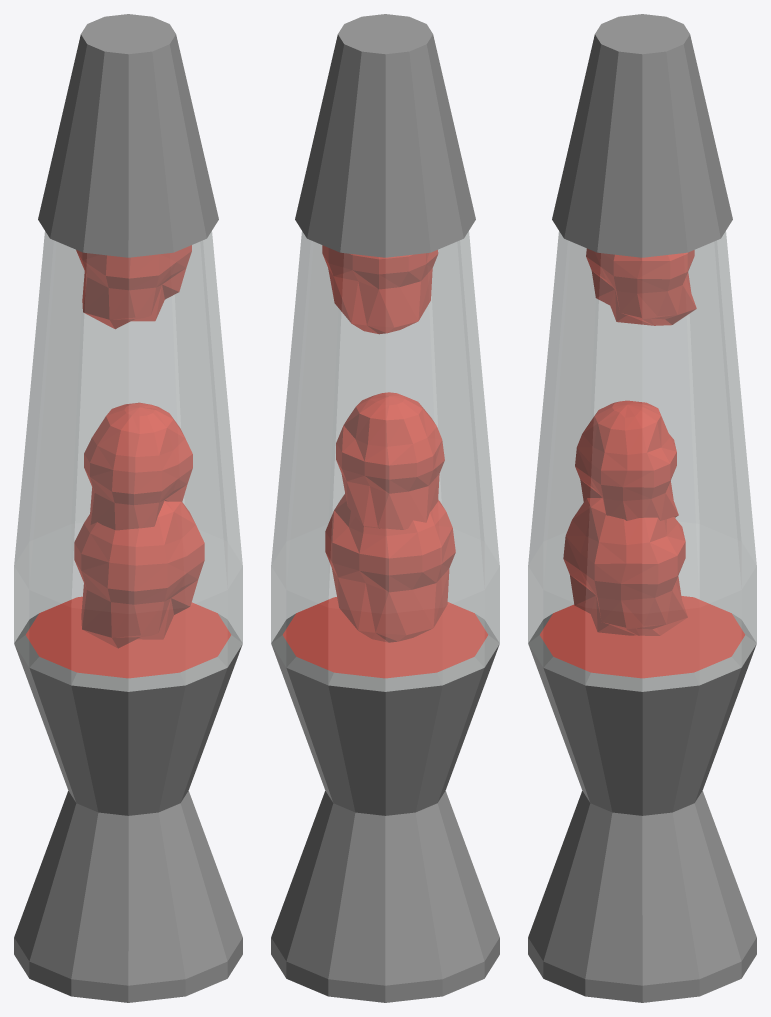
The model's file is lavaLamp.glb.
3 renders of one model, left to right at view 1: azimuth 30°, elevation 25°; view 2: azimuth 150°, elevation 25°; view 3: azimuth 270°, elevation 25°, orthographic.
Visible parts, largest first — view 1: Node; view 2: Node; view 3: Node.
Boxes of the visible parts, x1,y1,x2,y2 form: Node: (14, 14, 242, 1002); Node: (271, 14, 499, 1002); Node: (528, 14, 756, 1002).
Bounding box in the file's own units: 0.24 × 1.07 × 0.24.
